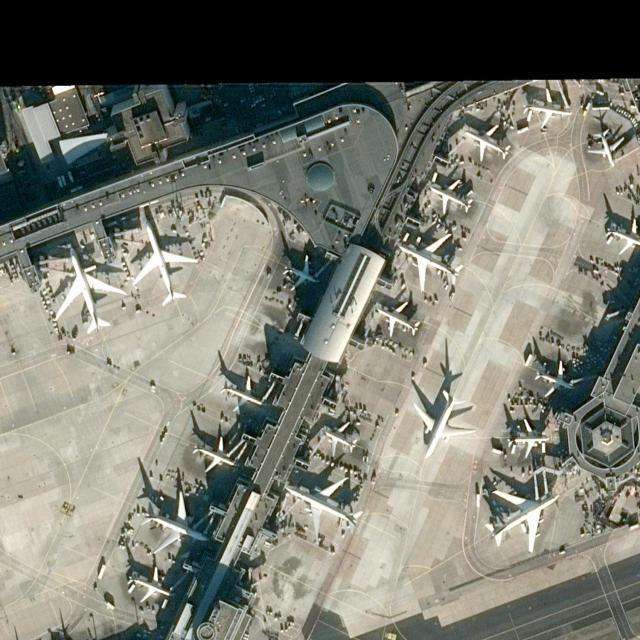Aircraft: (50, 244, 122, 334), (129, 221, 191, 302), (483, 488, 560, 552), (282, 475, 356, 537), (410, 389, 472, 457), (142, 491, 208, 554), (396, 232, 458, 286), (519, 85, 573, 127), (459, 121, 509, 163), (128, 566, 174, 605), (375, 298, 422, 336), (425, 176, 471, 214), (192, 437, 238, 474), (531, 362, 579, 397), (506, 419, 550, 456), (222, 374, 268, 409), (585, 128, 625, 168), (283, 256, 323, 288), (607, 215, 640, 251)
